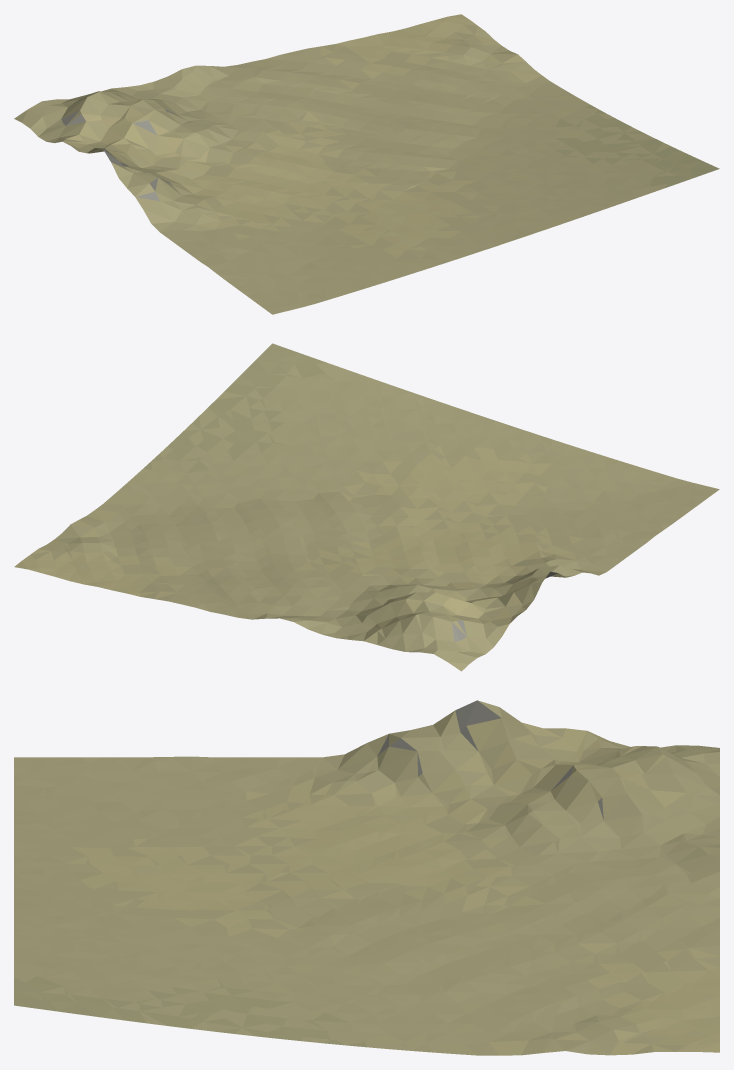
The model's file is Ground_4_5.glb.
3 views of the same model, one above another, from view 1: azimuth 30°, elevation 25°; view 2: azimuth 150°, elevation 25°; view 3: azimuth 270°, elevation 25° (orthographic). The views are drawn at different scales.
Visible parts, largest first — view 1: Ground_4_5; view 2: Ground_4_5; view 3: Ground_4_5.
Part boxes in pixels (x1,y1,x2,y2): Ground_4_5: (14, 14, 719, 314); Ground_4_5: (14, 343, 719, 671); Ground_4_5: (14, 700, 719, 1055).
Size of the model in its own units: 768 by 68.44 by 768.
